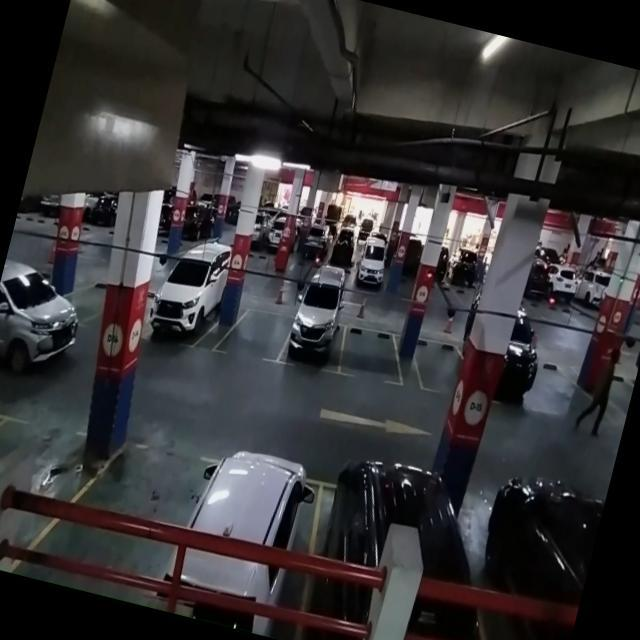empty: (78, 428, 213, 533), (216, 294, 295, 366), (336, 318, 412, 390), (404, 332, 464, 398)
occupied: (190, 445, 326, 561), (139, 250, 229, 356), (276, 288, 351, 378)
